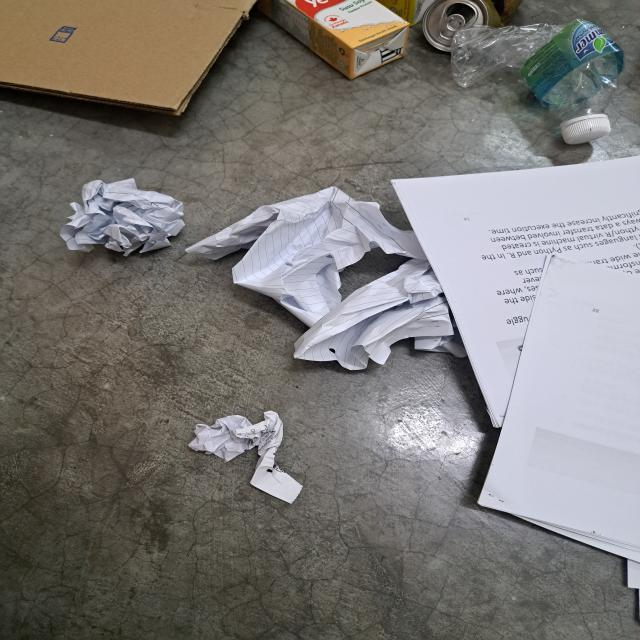can: (420, 0, 521, 50)
cardboard: (0, 0, 258, 121)
drink carton: (262, 0, 413, 80)
paper: (390, 156, 640, 431), (477, 252, 640, 590), (187, 187, 427, 326), (292, 258, 468, 370), (187, 409, 303, 504), (61, 178, 186, 257)
plastic bottle: (450, 19, 626, 120)
plastic bottle cap: (561, 118, 611, 145)
pop tab: (437, 14, 465, 42)
